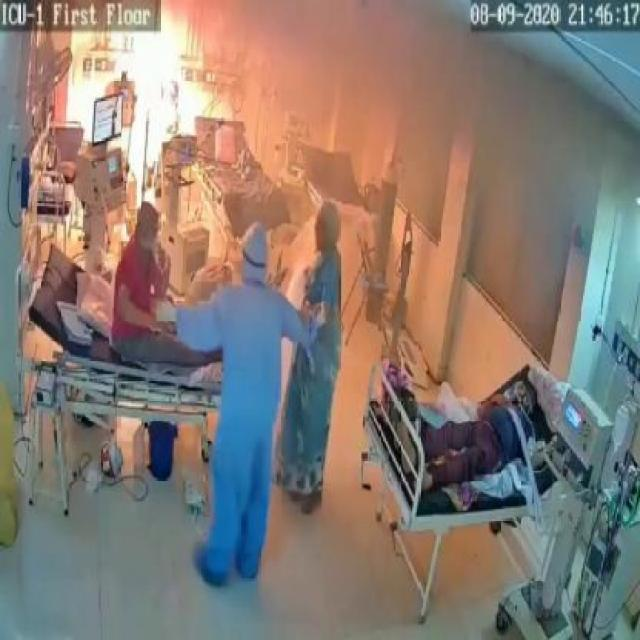fire: (112, 16, 211, 178)
smoke: (234, 1, 640, 217)
